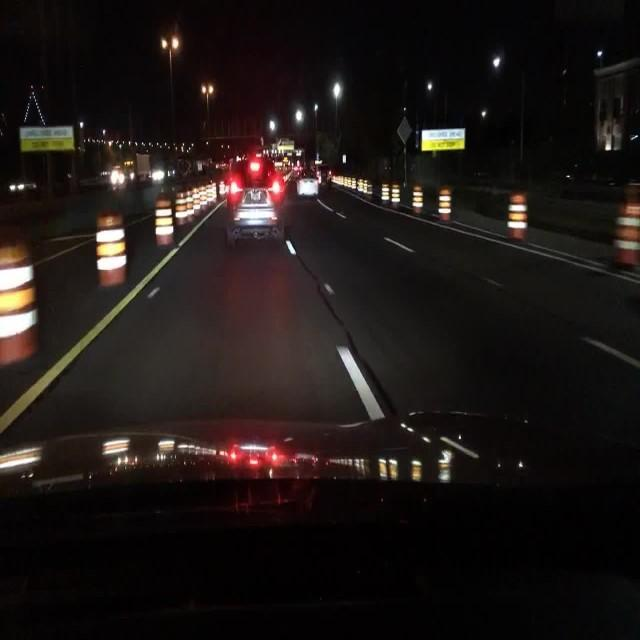normal: (208, 142, 310, 256)
